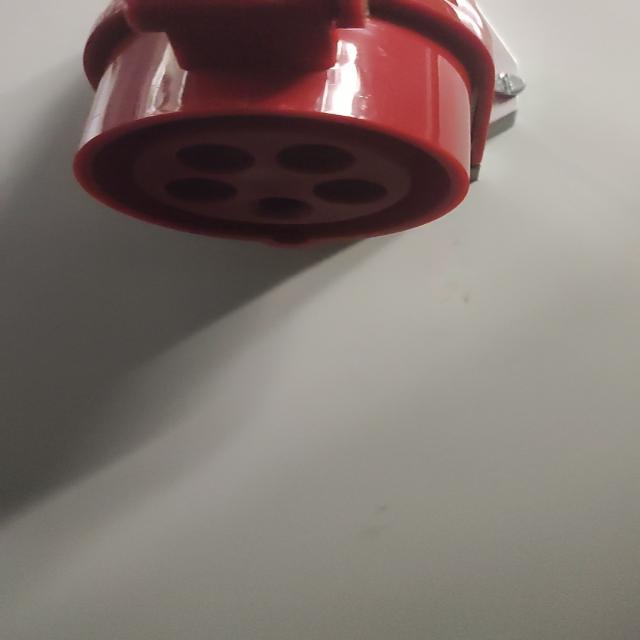400v socket down: (75, 0, 492, 247)
